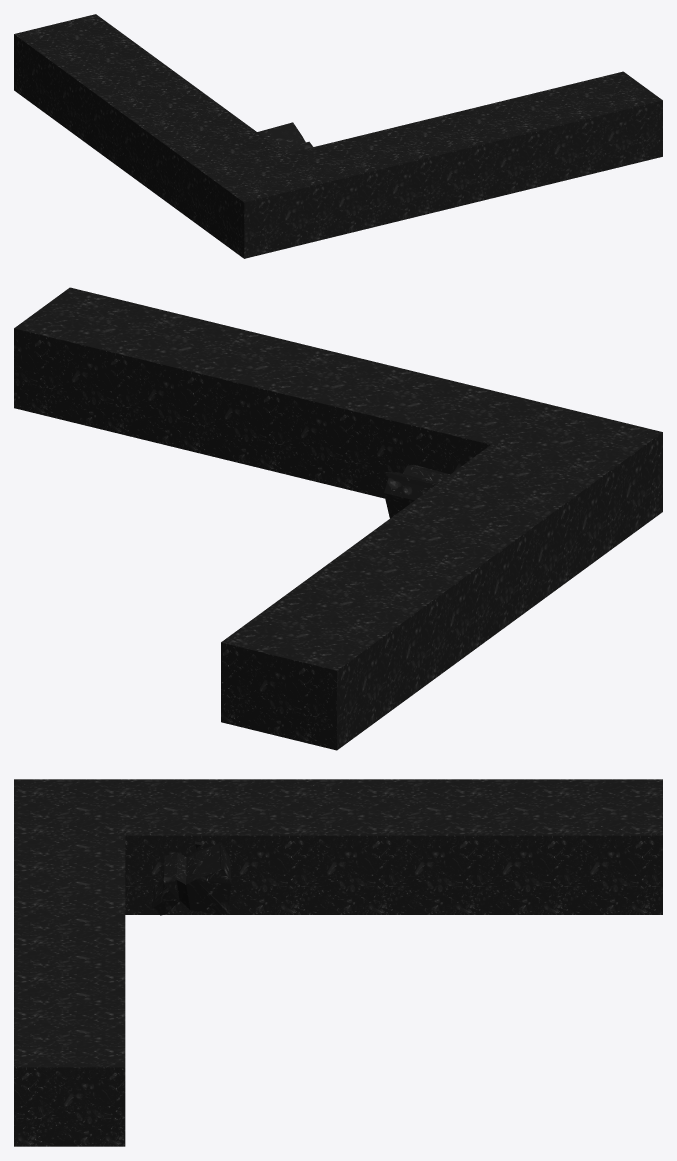
The model's file is HJ_MKCJ_001.FBX.
The picture shows the model from 3 angles, top to bottom: view 1: azimuth 30°, elevation 25°; view 2: azimuth 150°, elevation 25°; view 3: azimuth 270°, elevation 25°; orthographic projection. The views are drawn at different scales.
Visible parts, largest first — view 1: CaiMeiMan; view 2: CaiMeiMan; view 3: CaiMeiMan.
Part boxes in pixels (x1=…): CaiMeiMan: x1=14, y1=14, x2=662, y2=258; CaiMeiMan: x1=14, y1=287, x2=662, y2=750; CaiMeiMan: x1=14, y1=779, x2=662, y2=1146.
Bounding box in the file's own units: 35.02 × 4.5 × 33.35.
